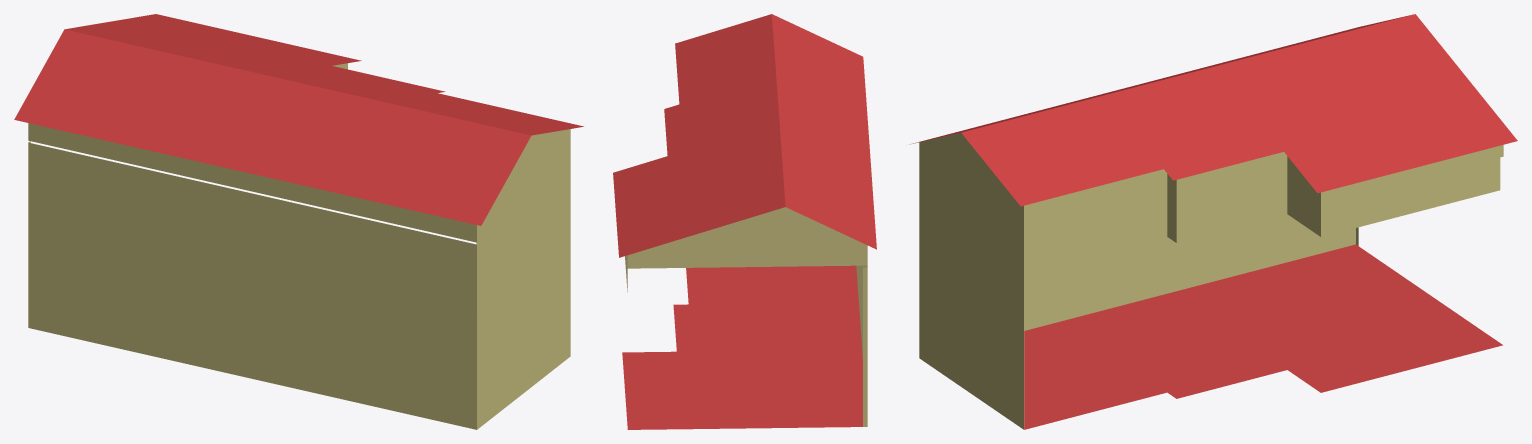
The picture shows the model from 3 angles, left to right: view 1: azimuth 30°, elevation 25°; view 2: azimuth 150°, elevation 25°; view 3: azimuth 270°, elevation 25°; orthographic projection. The views are drawn at different scales.
Size of the model in its own units: 22.27 by 29.17 by 13.79.
